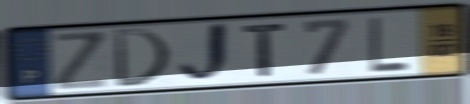7: (300, 15, 353, 78)
D: (111, 26, 174, 89)
J: (176, 19, 234, 87)
L: (367, 14, 412, 74)
T: (240, 21, 289, 79)
Z: (51, 29, 112, 93)
